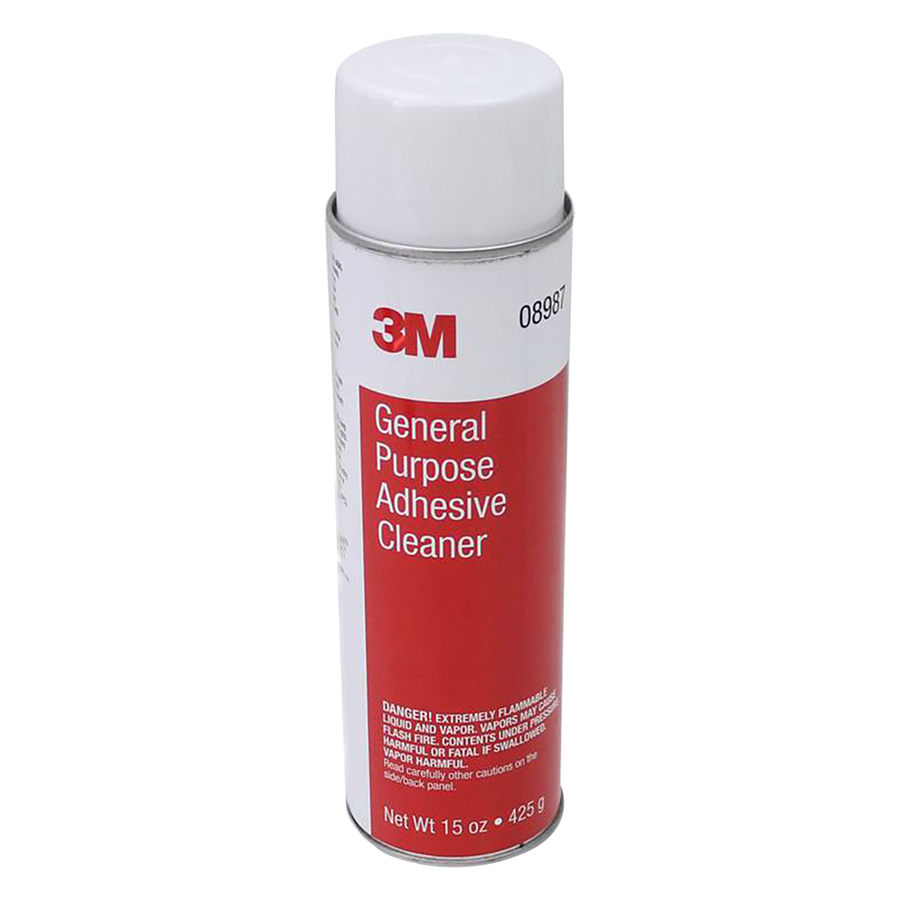3M: (361, 297, 472, 370)
